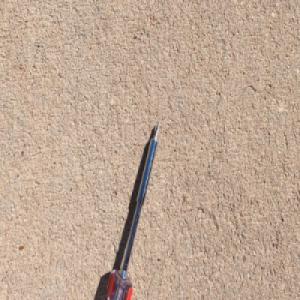Screwdriver: (103, 119, 161, 300)
